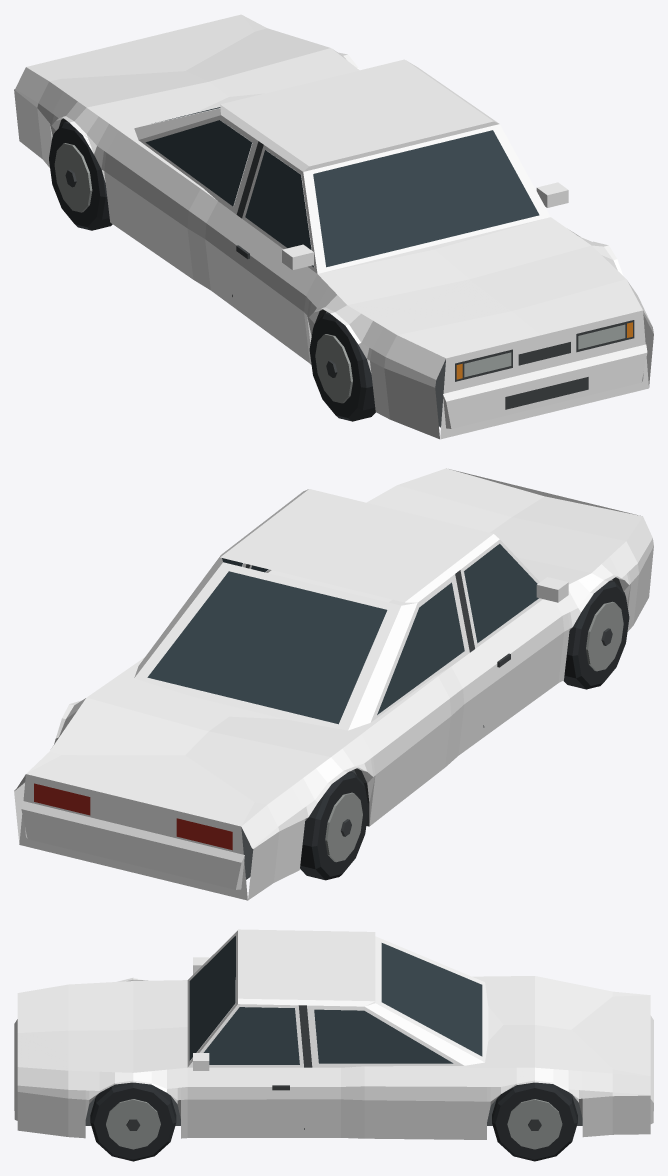
Rendered from kestrin_drifter.glb.
3 views of the same model, one above another, from view 1: azimuth 30°, elevation 25°; view 2: azimuth 150°, elevation 25°; view 3: azimuth 270°, elevation 25° (orthographic). The views are drawn at different scales.
Visible parts, largest first — view 1: kestrin_drifter; view 2: kestrin_drifter; view 3: kestrin_drifter.
Part boxes in pixels (<box>): kestrin_drifter: <box>14,14,653,439</box>; kestrin_drifter: <box>14,468,653,900</box>; kestrin_drifter: <box>14,929,653,1161</box>.
Bounding box in the file's own units: 1.82 × 1.2 × 4.7.
Materials: 8 (1 with a texture image).
